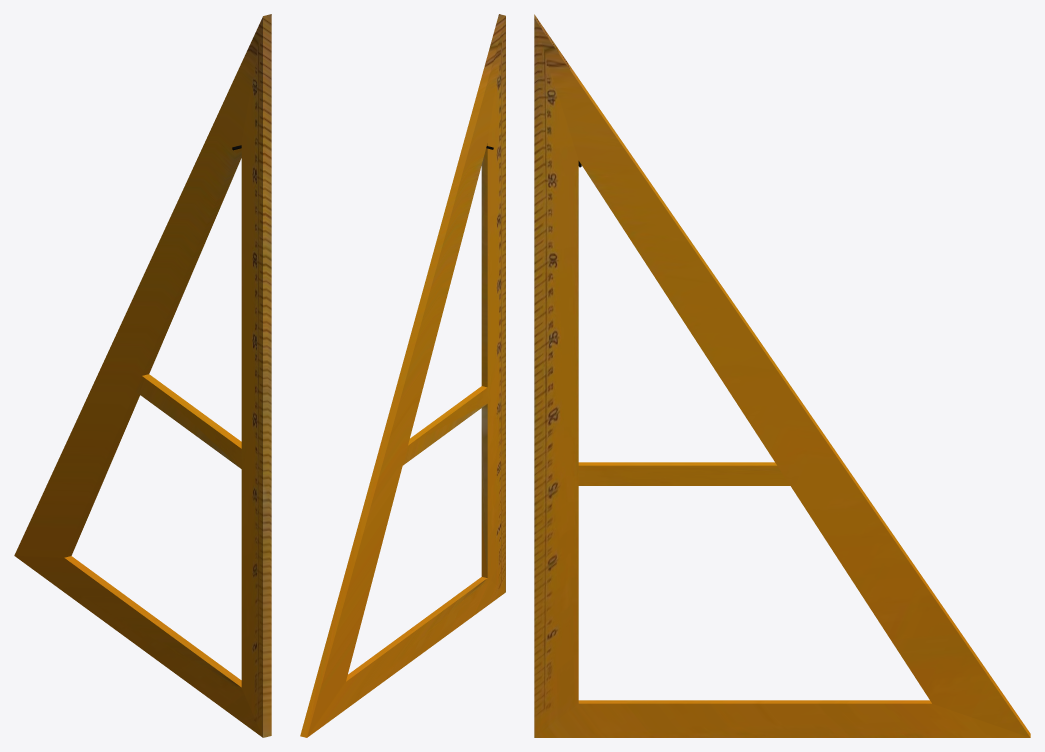
File: ruler.fbx
3 views of the same model, side by side, from view 1: azimuth 30°, elevation 25°; view 2: azimuth 150°, elevation 25°; view 3: azimuth 270°, elevation 25° (orthographic). The views are drawn at different scales.
Parts seen in each view (by area): view 1: Cylinder.002; view 2: Cylinder.002; view 3: Cylinder.002.
Boxes of the visible parts, x1=… form: Cylinder.002: x1=14, y1=14, x2=271, y2=737; Cylinder.002: x1=300, y1=14, x2=505, y2=737; Cylinder.002: x1=534, y1=14, x2=1030, y2=737.
Size of the model in its own units: 1.95 by 80 by 50.
